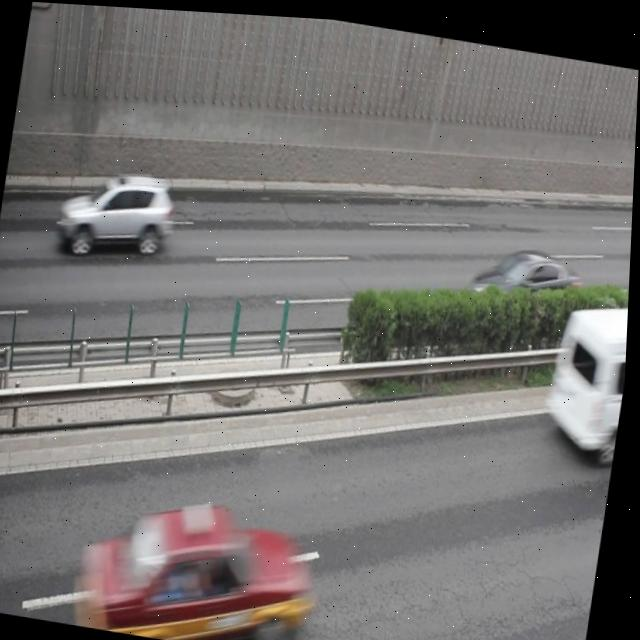car: (71, 485, 318, 640), (57, 164, 177, 262), (467, 237, 587, 313)
truck: (542, 287, 631, 445)
